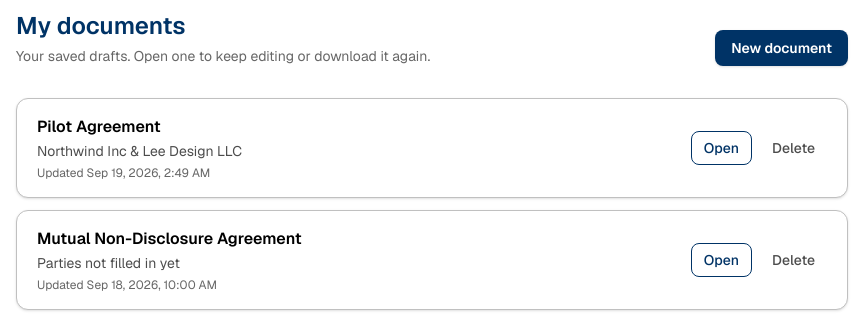
Scenario: MyDocuments › asks for confirmation before deleting, and cancel keeps the document
Click the button with aria-label "Delete Pilot Agreement" at (793, 148), box 760,132 -> 827,164
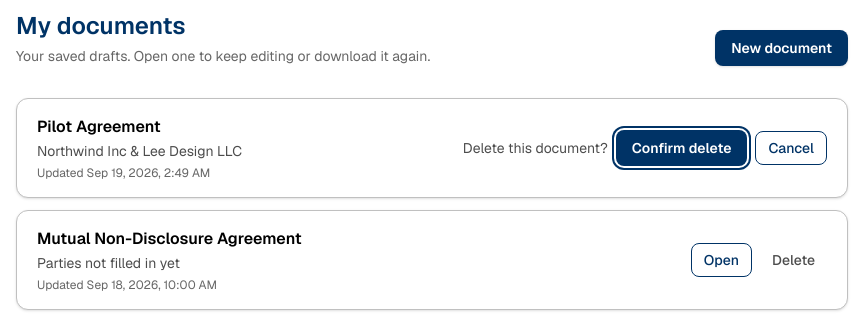
Expected: the text "Delete this document?" is shown, 463,138 -> 608,158
Click the button "Cancel" at (791, 148), box 755,131 -> 827,165
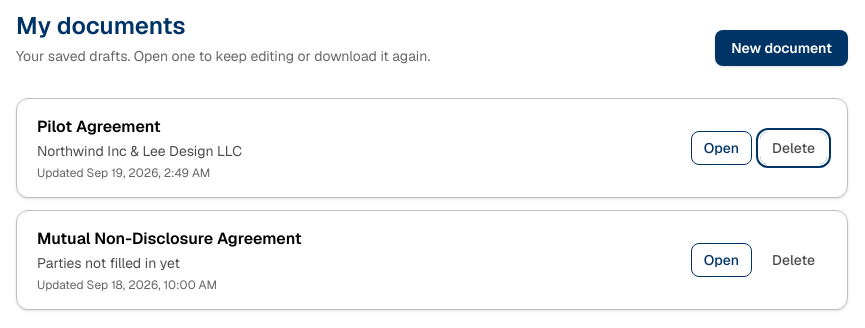
Expected: the number of list items is 2, 16,98 -> 848,198; 16,210 -> 848,310
Expected: the text "Delete this document?" is gone
